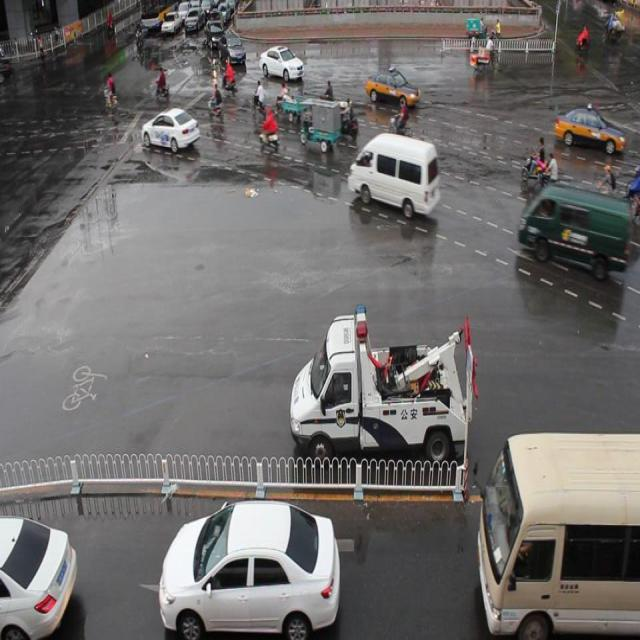bus: (289, 304, 478, 468)
car: (158, 498, 338, 640), (1, 514, 78, 640), (553, 102, 624, 156), (142, 102, 200, 154), (366, 65, 420, 107), (259, 41, 304, 80), (215, 31, 246, 66)
truck: (472, 434, 640, 640), (516, 179, 630, 278), (347, 131, 440, 220)
